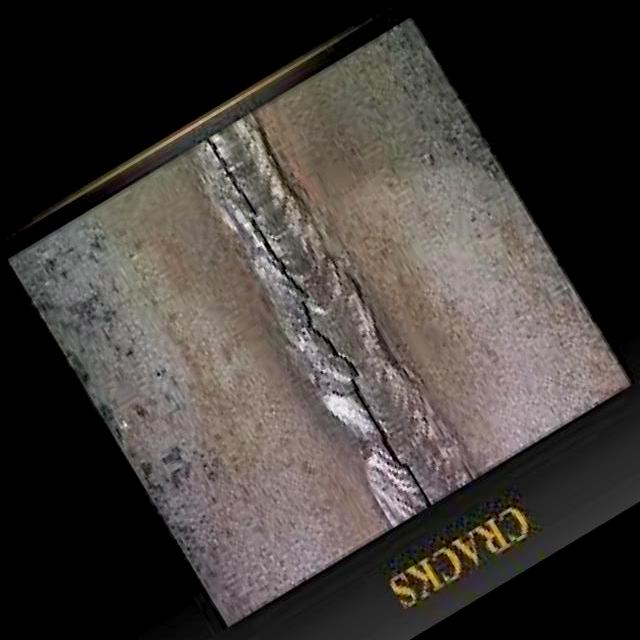defect: (203, 132, 437, 509)
